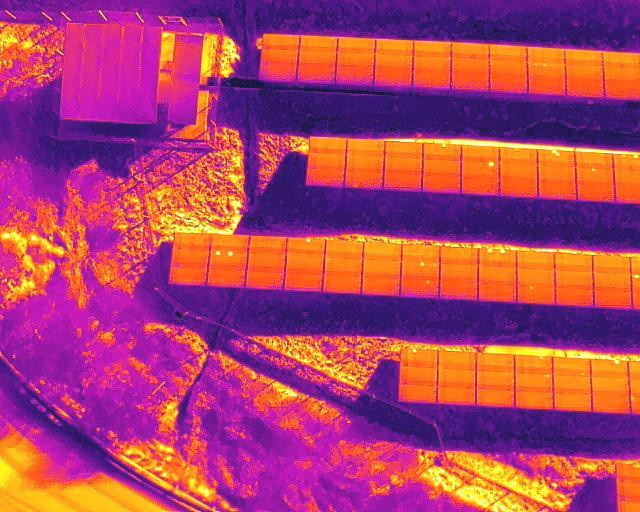Cell: (517, 284, 555, 304), (515, 374, 552, 392), (400, 280, 439, 297), (401, 349, 437, 367), (515, 356, 553, 373), (287, 238, 325, 254), (461, 162, 499, 177), (300, 36, 338, 51), (423, 145, 461, 160), (553, 360, 590, 375), (591, 362, 627, 377), (499, 149, 537, 163), (576, 168, 614, 181)
Cell-Multi: (401, 261, 441, 279), (479, 248, 517, 266), (208, 250, 247, 267), (537, 151, 574, 167), (527, 63, 564, 77), (614, 155, 640, 170)
No-Anomaly: (423, 172, 460, 193), (437, 387, 477, 406), (246, 269, 285, 288), (413, 69, 451, 88), (400, 367, 437, 386), (171, 249, 210, 267), (207, 267, 245, 285), (553, 376, 591, 394), (477, 390, 515, 408), (477, 371, 514, 389), (592, 394, 629, 412), (259, 63, 296, 81), (383, 173, 422, 190), (168, 268, 207, 285), (478, 267, 517, 284), (440, 247, 479, 264), (285, 271, 324, 288), (438, 370, 477, 387), (335, 67, 374, 84), (577, 183, 615, 200), (325, 241, 363, 258), (440, 265, 478, 282), (556, 271, 594, 288), (555, 289, 593, 306), (517, 252, 555, 269), (399, 387, 437, 404), (362, 260, 400, 277), (478, 285, 516, 302), (555, 254, 593, 271), (490, 45, 528, 62), (515, 393, 553, 410), (374, 68, 412, 85), (489, 74, 527, 91), (566, 80, 604, 97), (451, 73, 489, 90), (605, 80, 640, 98), (592, 377, 629, 394), (324, 274, 361, 291), (594, 273, 631, 290), (594, 291, 631, 308), (500, 164, 537, 181), (452, 42, 489, 59), (461, 178, 500, 194), (401, 245, 440, 261), (439, 283, 478, 299), (307, 154, 346, 170), (500, 181, 538, 197), (286, 254, 324, 270), (248, 253, 286, 269), (477, 354, 515, 370), (517, 267, 555, 283), (361, 278, 399, 294), (438, 353, 476, 369), (538, 183, 576, 199), (565, 49, 603, 65), (553, 394, 591, 410), (297, 66, 335, 82), (528, 77, 566, 93), (345, 172, 385, 187), (345, 157, 385, 172), (364, 244, 401, 260), (594, 257, 631, 273), (263, 34, 300, 50), (528, 47, 565, 63), (376, 39, 413, 55), (305, 170, 344, 185), (384, 158, 423, 173), (250, 236, 286, 252), (538, 167, 576, 182), (298, 51, 336, 66), (347, 141, 385, 156), (414, 41, 451, 56), (338, 38, 375, 53), (211, 236, 250, 250), (565, 65, 604, 79), (173, 234, 211, 248), (324, 259, 362, 273), (385, 144, 423, 158), (576, 153, 614, 167), (309, 138, 346, 152), (461, 148, 499, 161), (337, 54, 375, 67), (603, 53, 639, 66), (262, 50, 298, 63), (413, 57, 451, 69), (375, 56, 413, 68), (489, 62, 527, 74), (451, 60, 489, 72), (604, 67, 639, 80), (423, 160, 460, 172), (615, 183, 639, 201), (614, 170, 639, 183)
